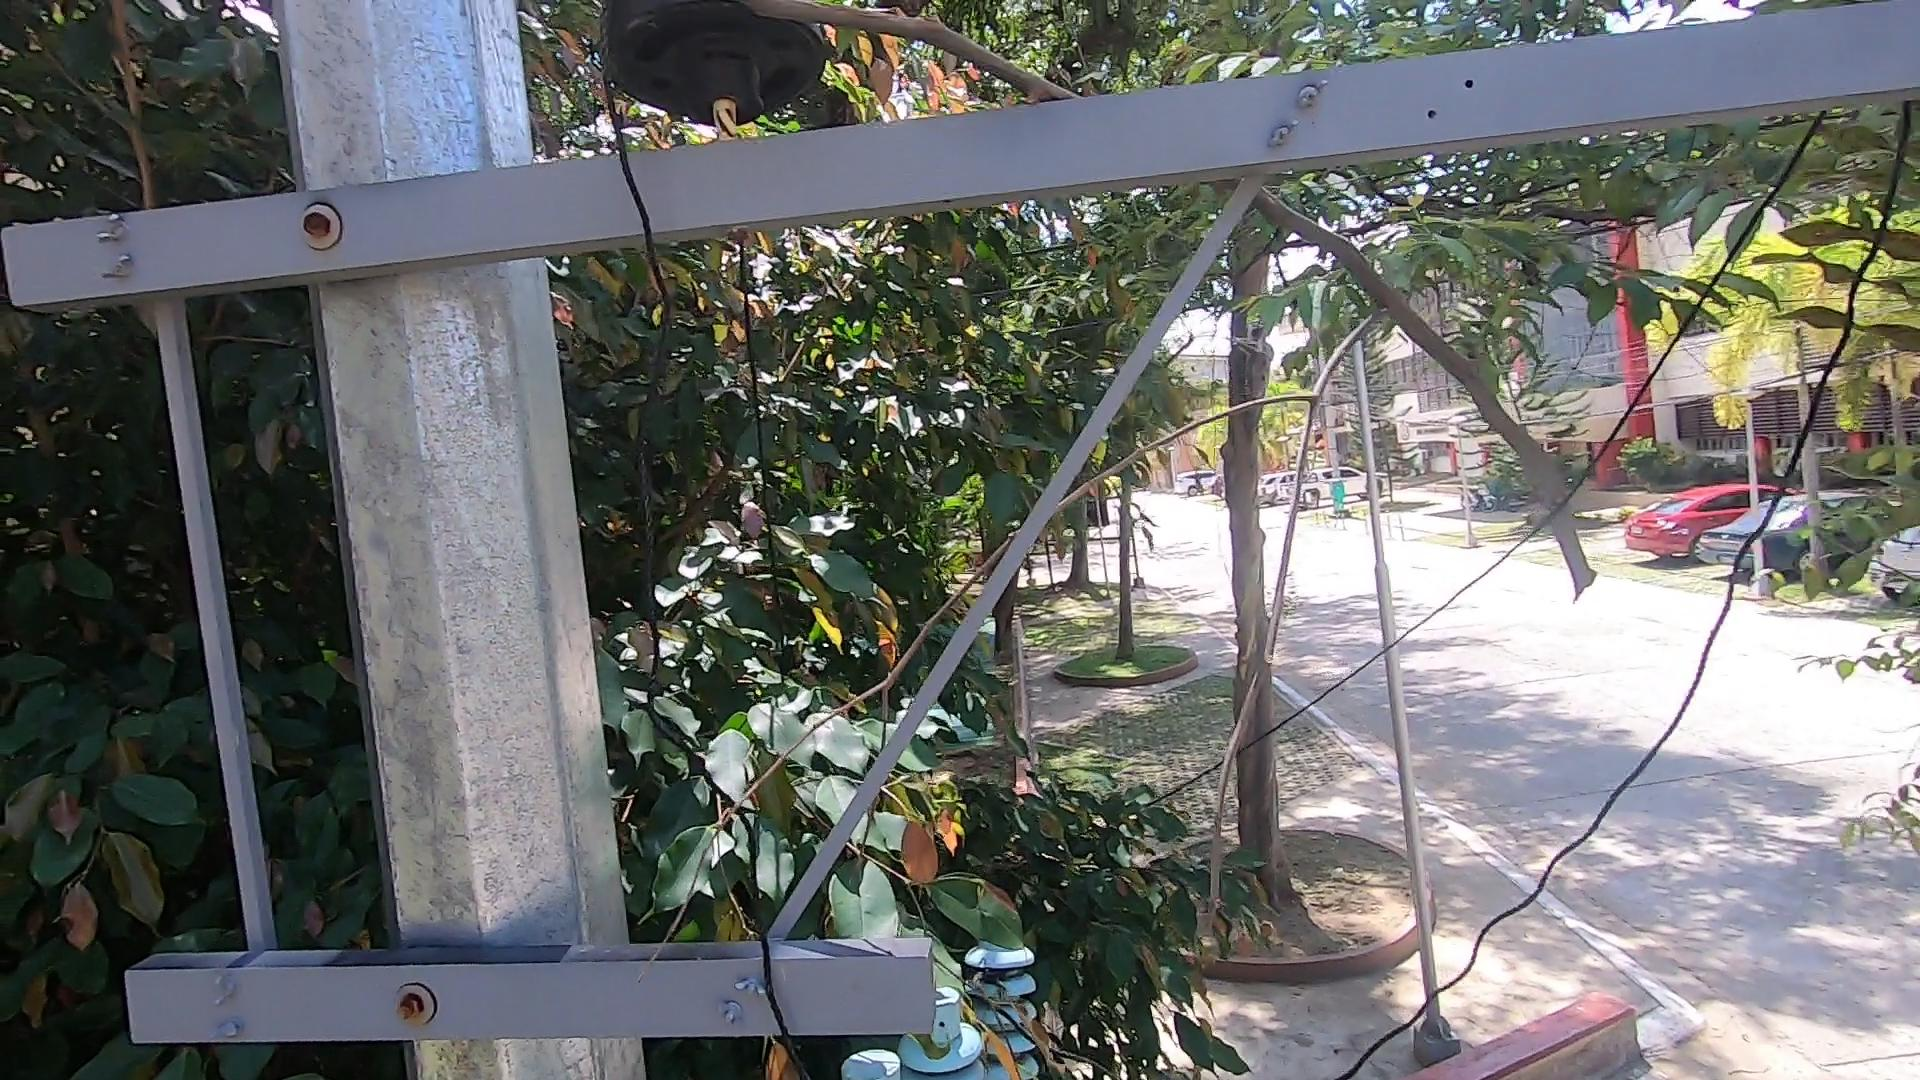tree branch: (626, 175, 1741, 975), (711, 4, 1081, 100)
